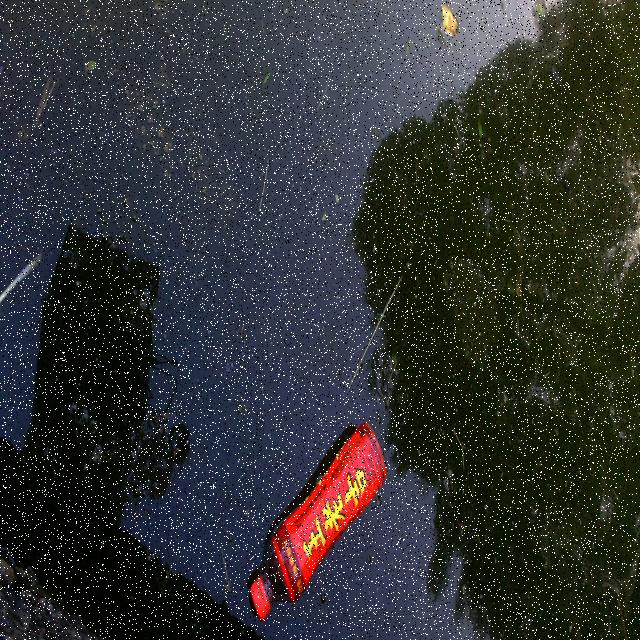Bottle: (246, 420, 388, 625)
